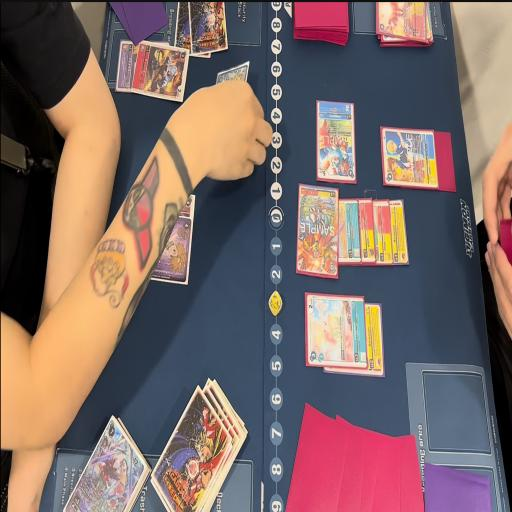card: (63, 406, 145, 512), (304, 290, 367, 368), (295, 185, 339, 277), (381, 129, 439, 188), (315, 101, 355, 185), (140, 220, 194, 282), (132, 48, 190, 103), (368, 0, 430, 35), (366, 305, 390, 377), (337, 197, 361, 269), (358, 196, 378, 269), (376, 193, 394, 272), (389, 197, 409, 266), (216, 61, 252, 97), (116, 35, 136, 95), (180, 190, 197, 223)
